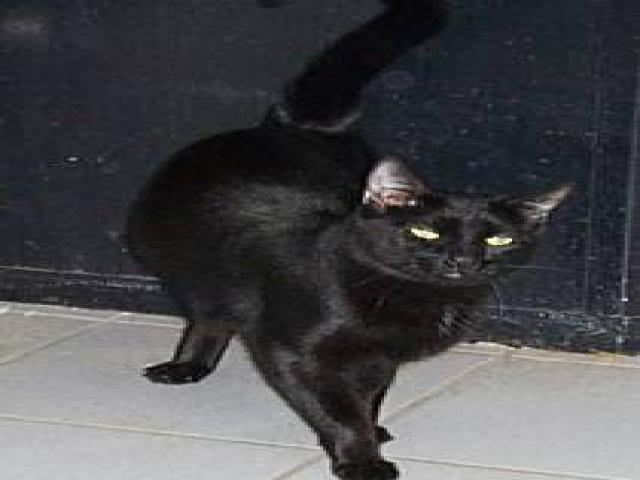cat: (111, 94, 574, 472)
